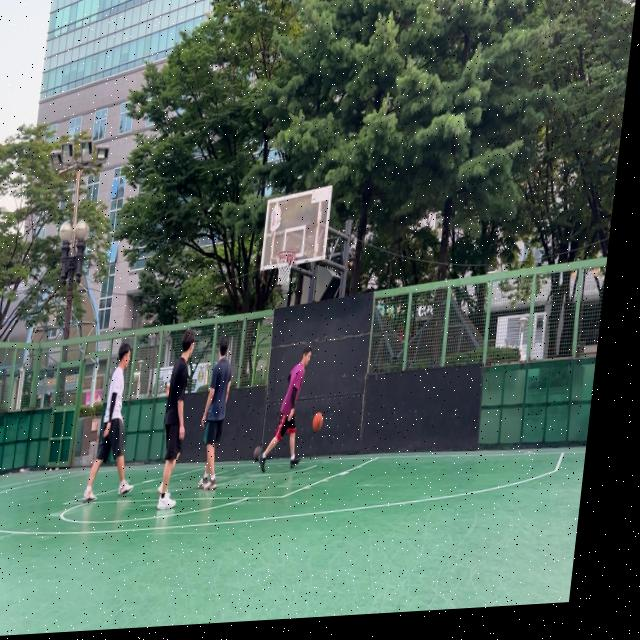basketball: (312, 412, 324, 432), (253, 446, 263, 462)
hoop: (272, 249, 297, 286)
